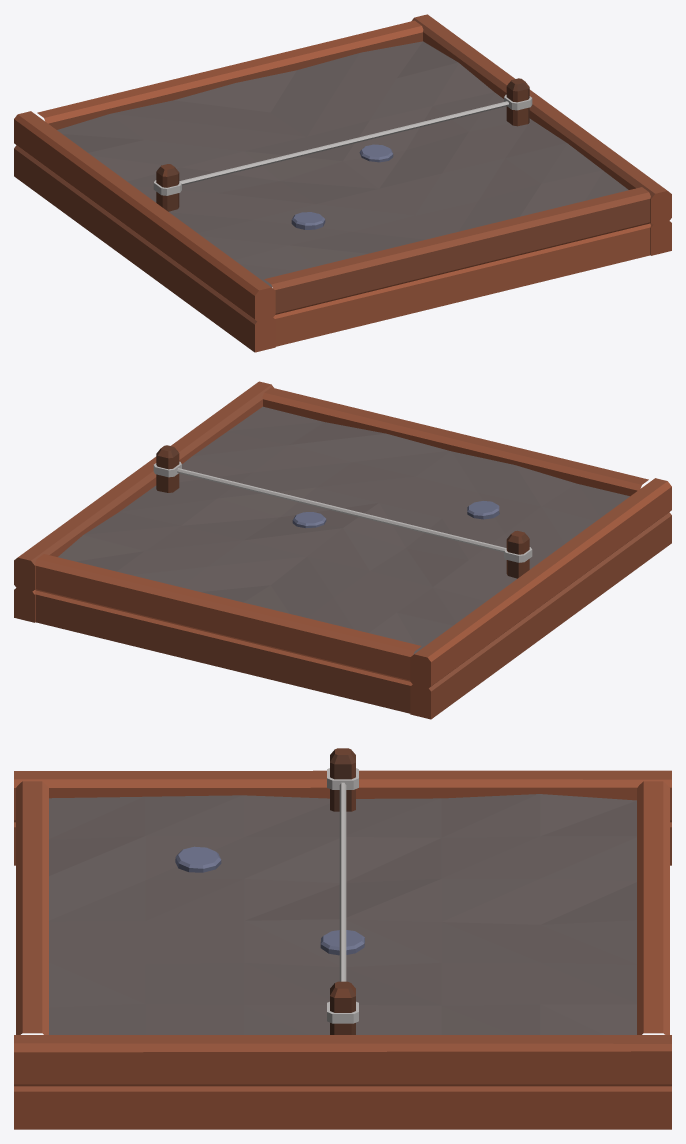
The model's file is rayuela-box-4587d4.glb.
The picture shows the model from 3 angles, top to bottom: view 1: azimuth 30°, elevation 25°; view 2: azimuth 150°, elevation 25°; view 3: azimuth 270°, elevation 25°; orthographic projection. The views are drawn at different scales.
Visible parts, largest first — view 1: box, tejo-2-mesh; view 2: box, tejo-2-mesh; view 3: box, tejo-2-mesh, tejo-1-mesh.
Boxes of the visible parts, x1,y1,x2,y2 form: box: (14, 14, 671, 352); tejo-2-mesh: (291, 212, 325, 229); box: (14, 381, 671, 719); tejo-2-mesh: (467, 501, 499, 519); box: (14, 748, 671, 1129); tejo-2-mesh: (175, 846, 221, 872); tejo-1-mesh: (320, 930, 364, 955).
Bounding box in the file's own units: 1 × 0.205 × 1.
